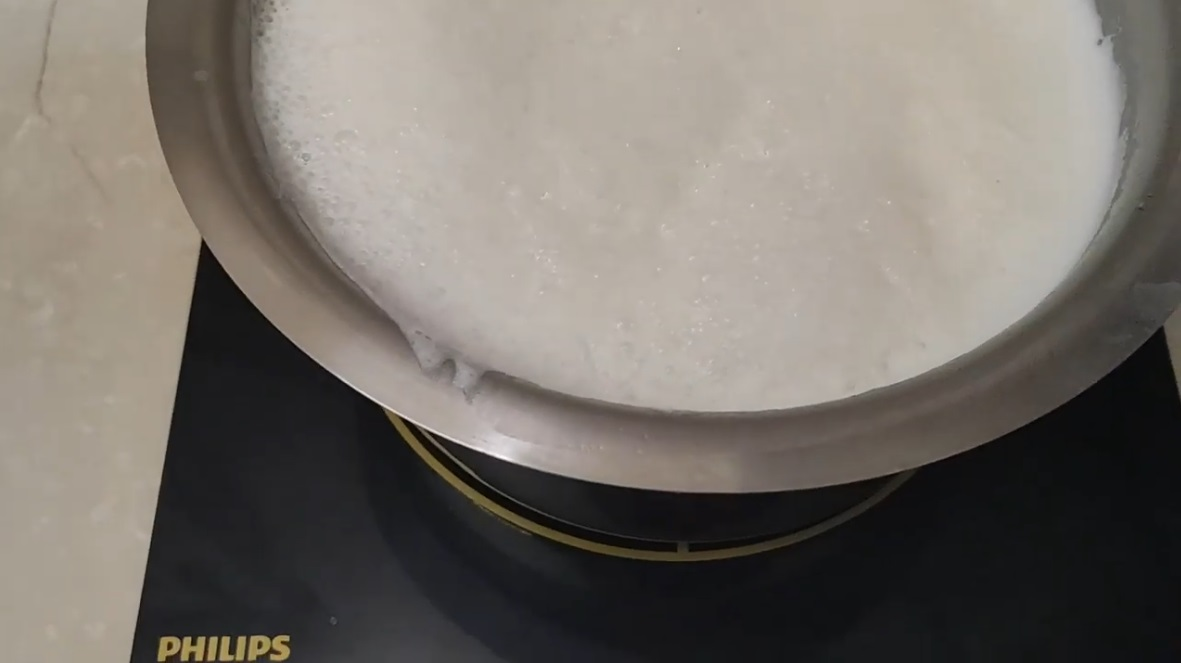Steaming: (142, 1, 1147, 434)
